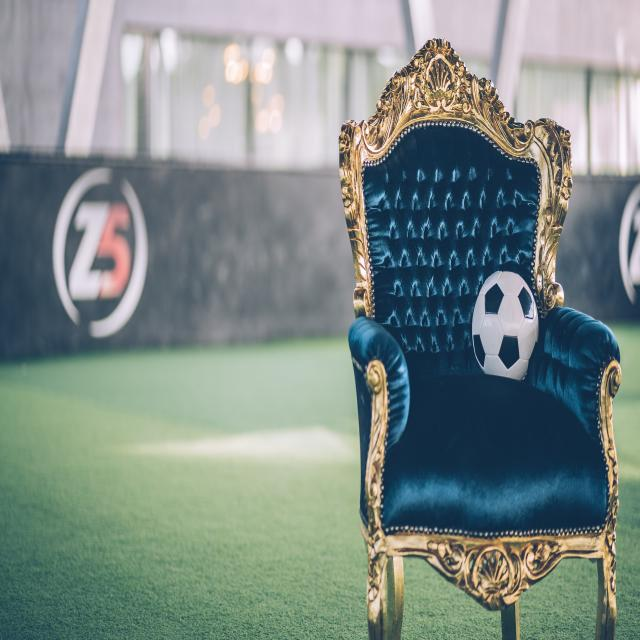ball: (471, 267, 542, 378)
